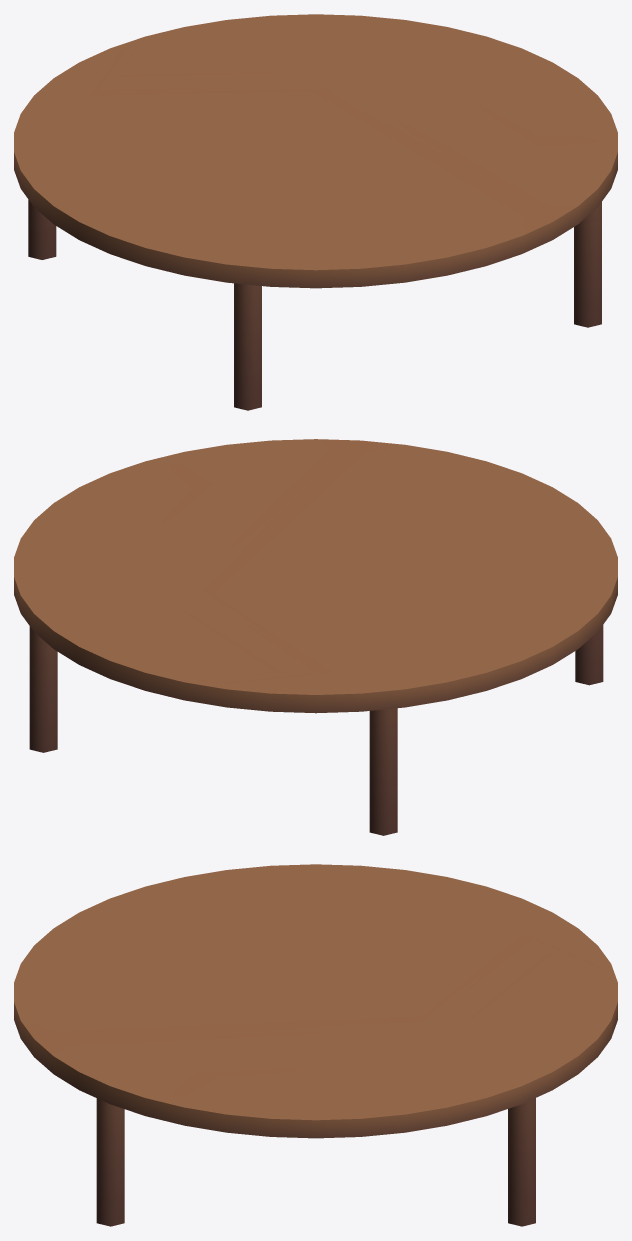
File: M_table_round.FBX
The picture shows the model from 3 angles, top to bottom: view 1: azimuth 30°, elevation 25°; view 2: azimuth 150°, elevation 25°; view 3: azimuth 270°, elevation 25°; orthographic projection.
Parts seen in each view (by area): view 1: Cylinder001; view 2: Cylinder001; view 3: Cylinder001.
Boxes of the visible parts, <box> form: Cylinder001: <box>14,14,617,410</box>; Cylinder001: <box>14,439,617,835</box>; Cylinder001: <box>14,864,617,1226</box>.
Size of the model in its own units: 253 by 252 by 66.72.
